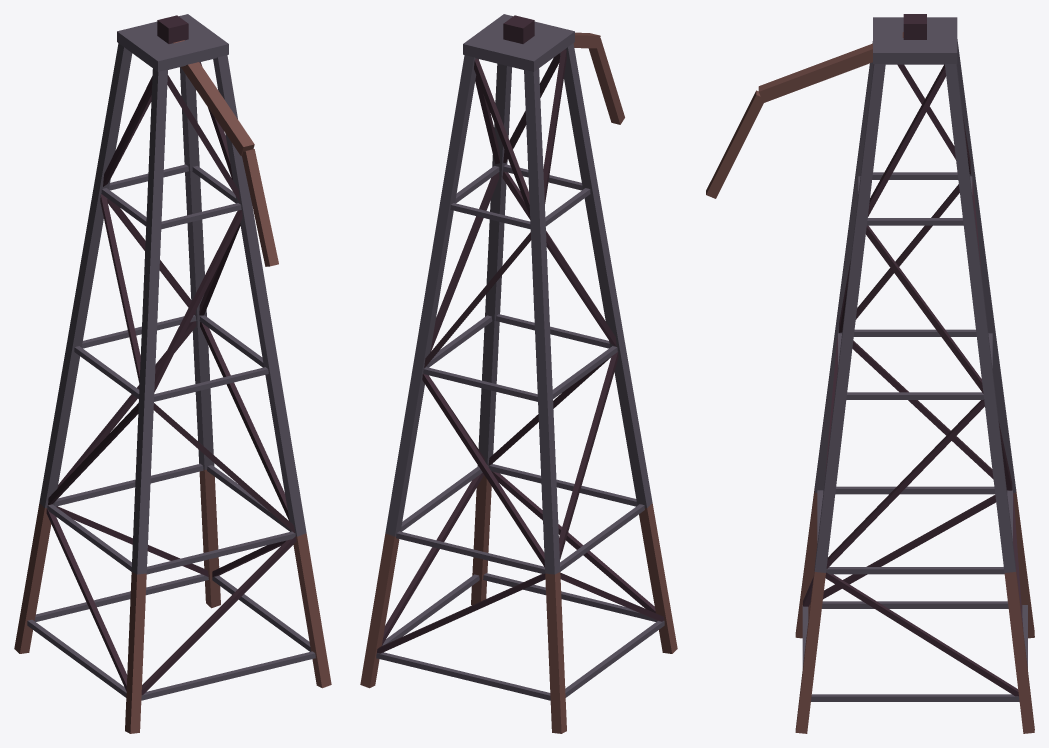
The model's file is land-derrick-01.glb.
The picture shows the model from 3 angles, left to right: view 1: azimuth 30°, elevation 25°; view 2: azimuth 150°, elevation 25°; view 3: azimuth 270°, elevation 25°; orthographic projection. The views are drawn at different scales.
Parts seen in each view (by area): view 1: derrick; view 2: derrick; view 3: derrick.
Part boxes in pixels (x1,y1,x2,y2): derrick: (14,14,331,733); derrick: (360,14,677,733); derrick: (706,14,1034,733).
Size of the model in its own units: 7.14 by 21.93 by 9.82.
